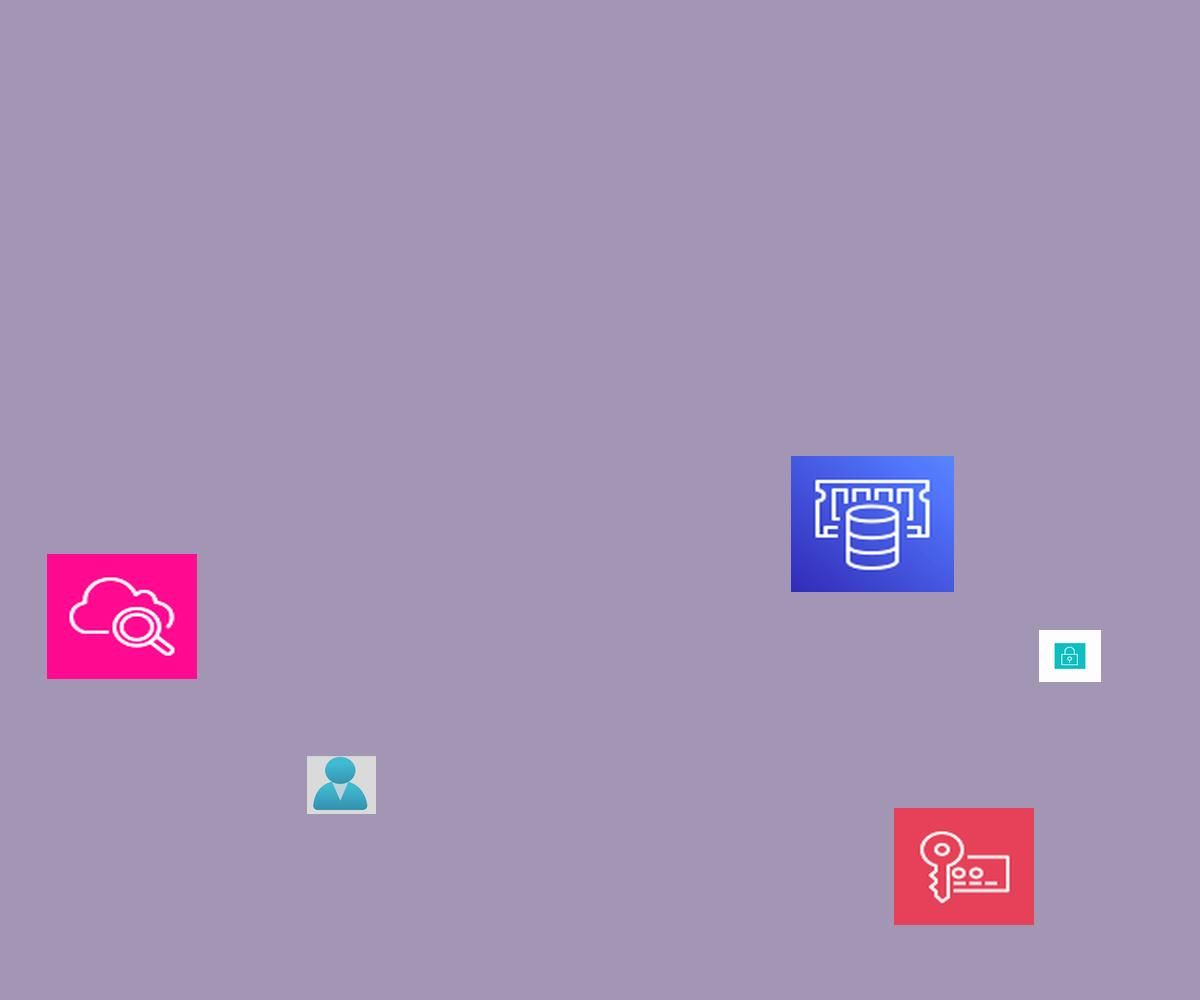AWS-CloudWatch: (47, 554, 197, 679)
AWS-ElastiCache: (791, 456, 954, 592)
AWS-Key-Management-Service: (894, 808, 1034, 925)
AWS-Private-subnet: (1039, 630, 1101, 682)
Azure_users: (307, 756, 376, 814)
